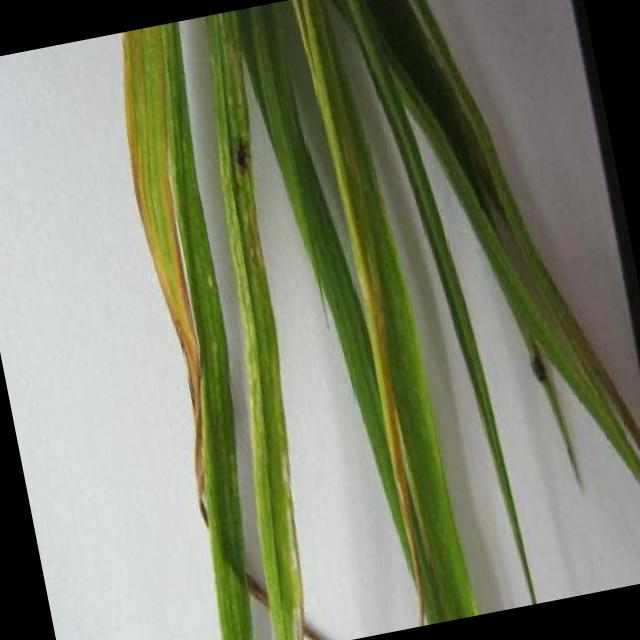rice-bug: (228, 135, 255, 175), (524, 346, 550, 387)
